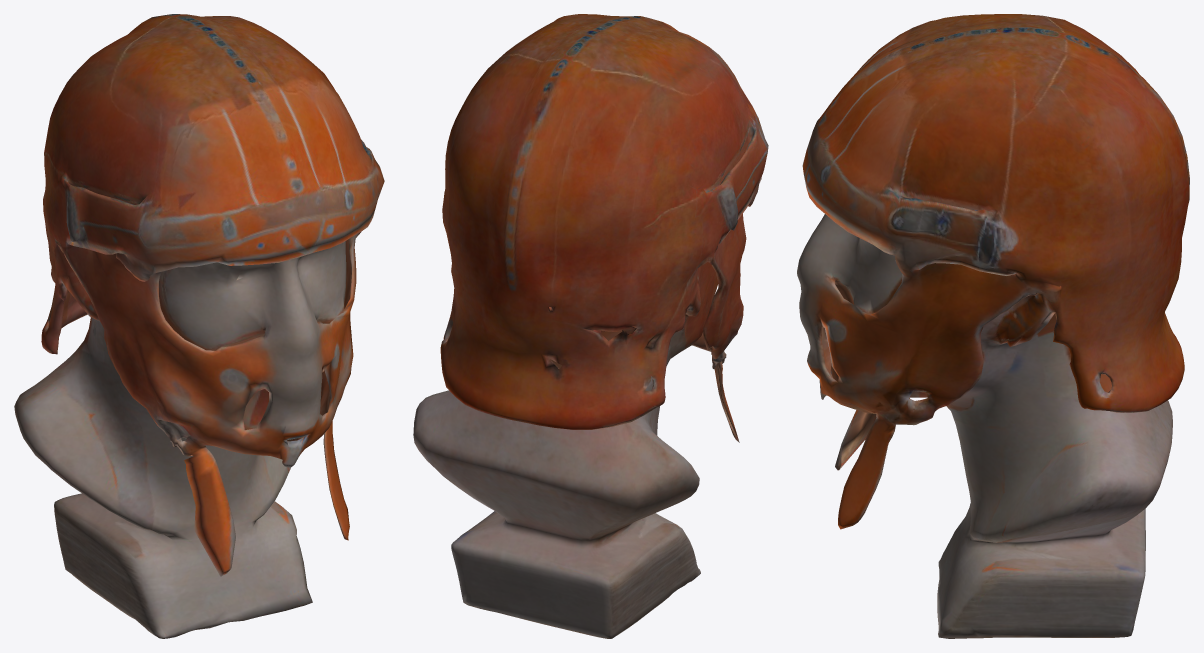
File: Hard Leather Helmet.glb
The picture shows the model from 3 angles, left to right: view 1: azimuth 30°, elevation 25°; view 2: azimuth 150°, elevation 25°; view 3: azimuth 270°, elevation 25°; orthographic projection. The views are drawn at different scales.
Visible parts, largest first — view 1: file1; view 2: file1; view 3: file1.
Part boxes in pixels (x1,y1,x2,y2): file1: (14,14,384,638); file1: (413,14,768,638); file1: (797,14,1189,638).
Size of the model in its own units: 1.03 by 2 by 1.23.
1 material, 1 textured.
